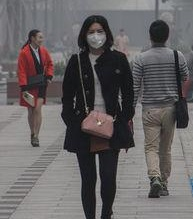person: (61, 14, 136, 219), (129, 19, 193, 198), (17, 29, 54, 149), (116, 26, 133, 56)
